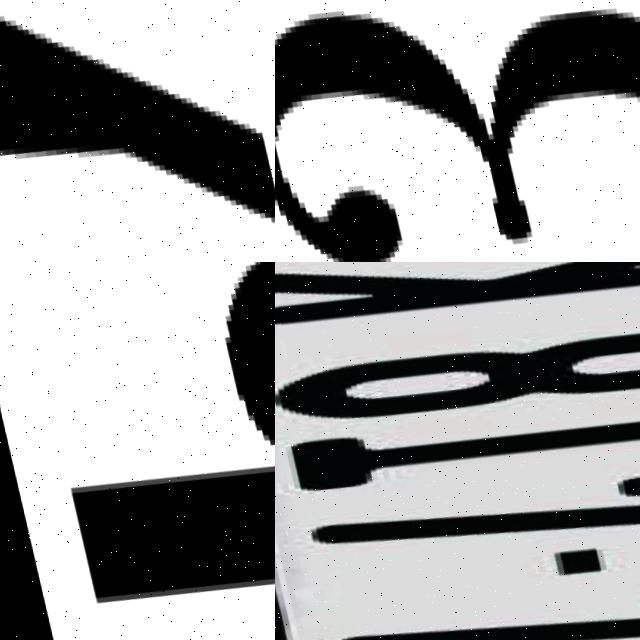3: (275, 0, 640, 262)
4: (287, 414, 640, 584), (318, 536, 640, 640)
8: (275, 281, 640, 448)
H: (64, 461, 275, 601)
K: (275, 262, 640, 347)
T: (275, 349, 640, 514)
Y: (0, 0, 275, 262)
